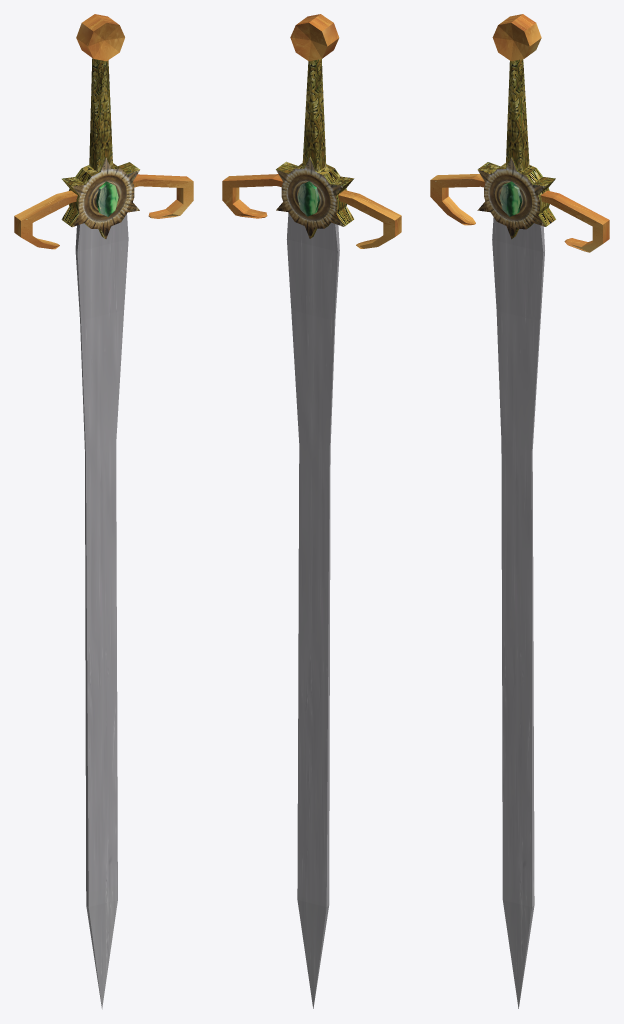
The model's file is BASTARDSWORD.fbx.
The picture shows the model from 3 angles, left to right: view 1: azimuth 30°, elevation 25°; view 2: azimuth 150°, elevation 25°; view 3: azimuth 330°, elevation 25°; orthographic projection.
Parts seen in each view (by area): view 1: Mesh1; view 2: Mesh1; view 3: Mesh1.
Part boxes in pixels (<box>): Mesh1: <box>14,14,193,1009</box>; Mesh1: <box>222,14,401,1008</box>; Mesh1: <box>430,14,609,1008</box>.
Size of the model in its own units: 18.58 by 102 by 2.67.
